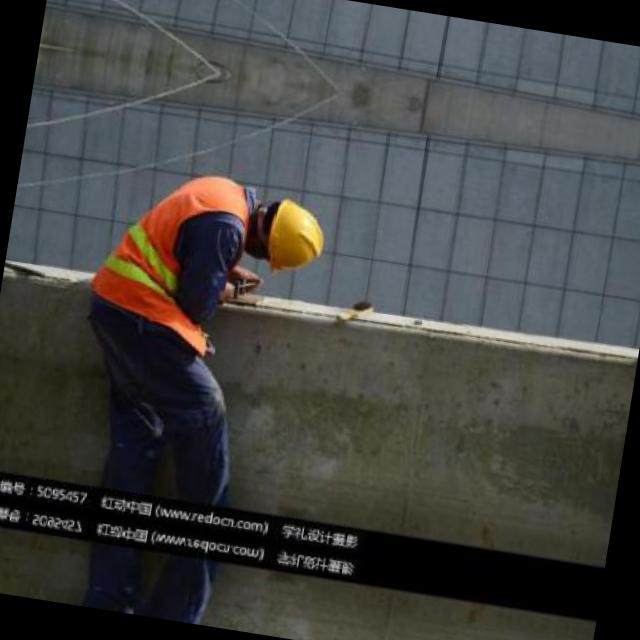helmet: (252, 198, 333, 276)
